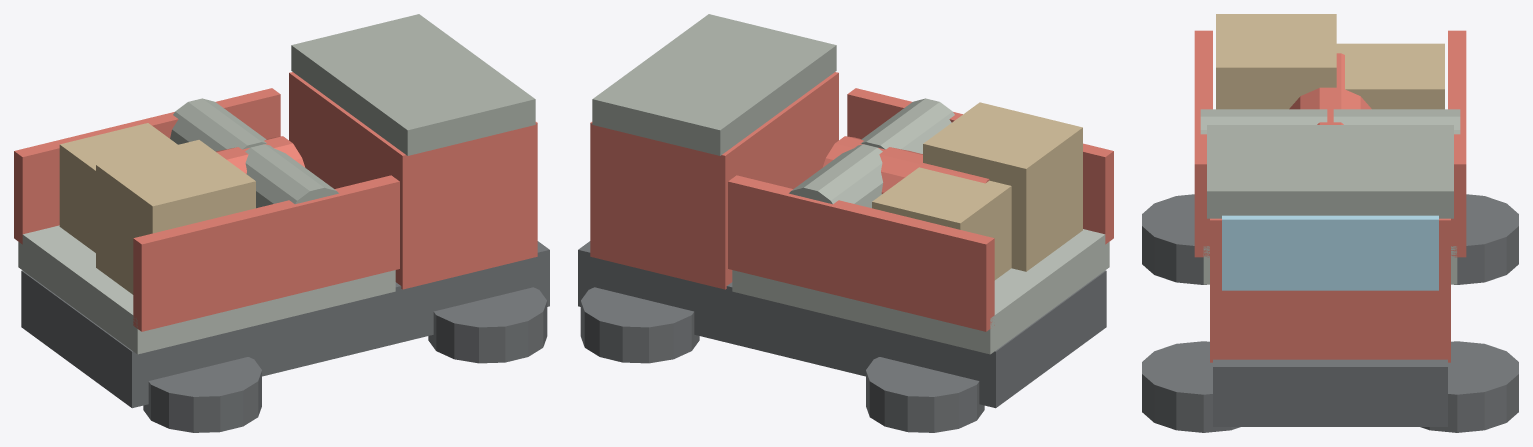
File: supply_red.glb
3 renders of one model, left to right at view 1: azimuth 30°, elevation 25°; view 2: azimuth 150°, elevation 25°; view 3: azimuth 270°, elevation 25°, orthographic. The views are drawn at different scales.
Visible parts, largest first — view 1: part05, part09, part00, part07, part11, part08, part01, part10, part03, part12, part13, part14 (+1 smaller); view 2: part05, part10, part00, part07, part11, part08, part12, part02, part04, part09, part14, part13 (+1 smaller); view 3: part07, part05, part06, part00, part11, part12, part01, part02, part03, part04, part09, part10 (+4 smaller).
Boxes of the visible parts, x1=… form: part05: x1=289, y1=72, x2=537, y2=289; part09: x1=133, y1=175, x2=399, y2=331; part00: x1=21, y1=241, x2=549, y2=408; part07: x1=291, y1=14, x2=535, y2=155; part11: x1=96, y1=140, x2=255, y2=294; part08: x1=18, y1=225, x2=395, y2=354; part01: x1=428, y1=287, x2=547, y2=363; part10: x1=14, y1=88, x2=280, y2=244; part03: x1=143, y1=357, x2=261, y2=432; part12: x1=59, y1=123, x2=177, y2=252; part13: x1=245, y1=144, x2=338, y2=208; part14: x1=170, y1=98, x2=266, y2=151; part05: x1=590, y1=72, x2=838, y2=289; part10: x1=728, y1=175, x2=994, y2=331; part00: x1=578, y1=241, x2=1106, y2=408; part07: x1=592, y1=14, x2=836, y2=155; part11: x1=923, y1=102, x2=1082, y2=271; part08: x1=732, y1=229, x2=1109, y2=354; part12: x1=872, y1=167, x2=1011, y2=280; part02: x1=580, y1=287, x2=699, y2=363; part04: x1=866, y1=357, x2=984, y2=432; part09: x1=847, y1=88, x2=1113, y2=244; part14: x1=789, y1=144, x2=883, y2=208; part13: x1=861, y1=98, x2=954, y2=153; part07: x1=1207, y1=125, x2=1453, y2=218; part05: x1=1210, y1=218, x2=1450, y2=362; part06: x1=1222, y1=215, x2=1438, y2=290; part00: x1=1213, y1=359, x2=1447, y2=426; part11: x1=1216, y1=14, x2=1336, y2=109; part12: x1=1336, y1=43, x2=1444, y2=109; part01: x1=1142, y1=341, x2=1240, y2=432; part02: x1=1420, y1=341, x2=1518, y2=432; part03: x1=1142, y1=194, x2=1206, y2=284; part04: x1=1454, y1=194, x2=1518, y2=284; part09: x1=1194, y1=30, x2=1212, y2=257; part10: x1=1448, y1=30, x2=1466, y2=257.
Size of the model in its own units: 1.7 by 0.88 by 1.25.
